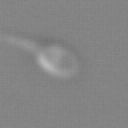normal: (2, 32, 36, 56)
